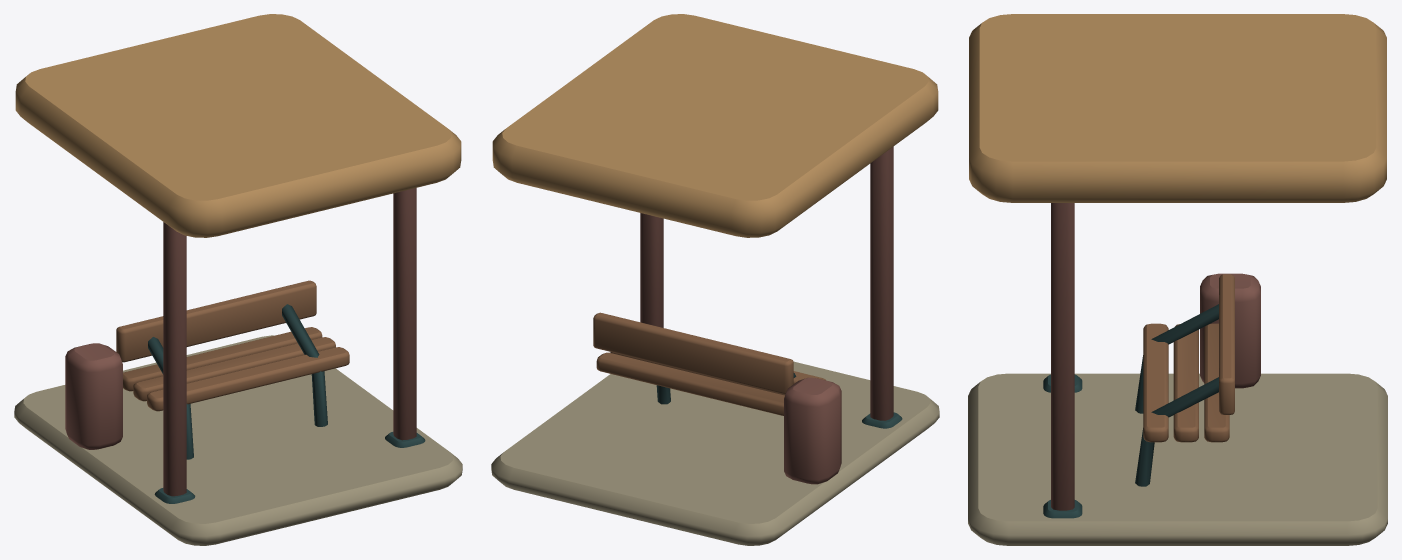
The model's file is showers_works_2.glb.
3 renders of one model, left to right at view 1: azimuth 30°, elevation 25°; view 2: azimuth 150°, elevation 25°; view 3: azimuth 270°, elevation 25°, orthographic. The views are drawn at different scales.
Parts seen in each view (by area): view 1: ShowersWorks2; view 2: ShowersWorks2; view 3: ShowersWorks2.
Part boxes in pixels (x1,y1,x2,y2): ShowersWorks2: [14, 14, 462, 545]; ShowersWorks2: [491, 14, 939, 545]; ShowersWorks2: [968, 14, 1387, 545].
Bounding box in the file's own units: 2.19 × 2.51 × 2.48.
